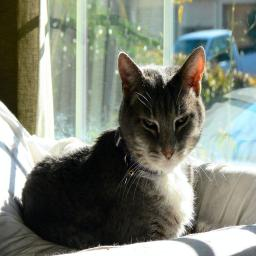catnose: (159, 146, 176, 162)
